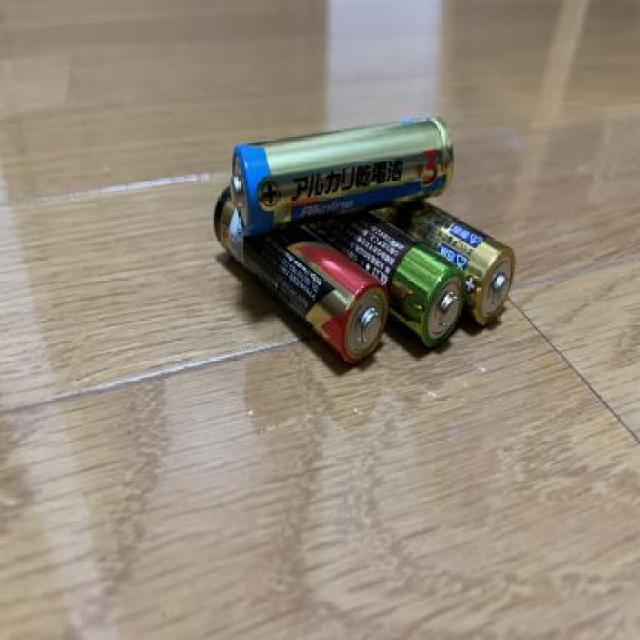AA: (212, 182, 394, 364), (226, 113, 459, 239), (300, 202, 471, 348), (382, 195, 516, 331)
